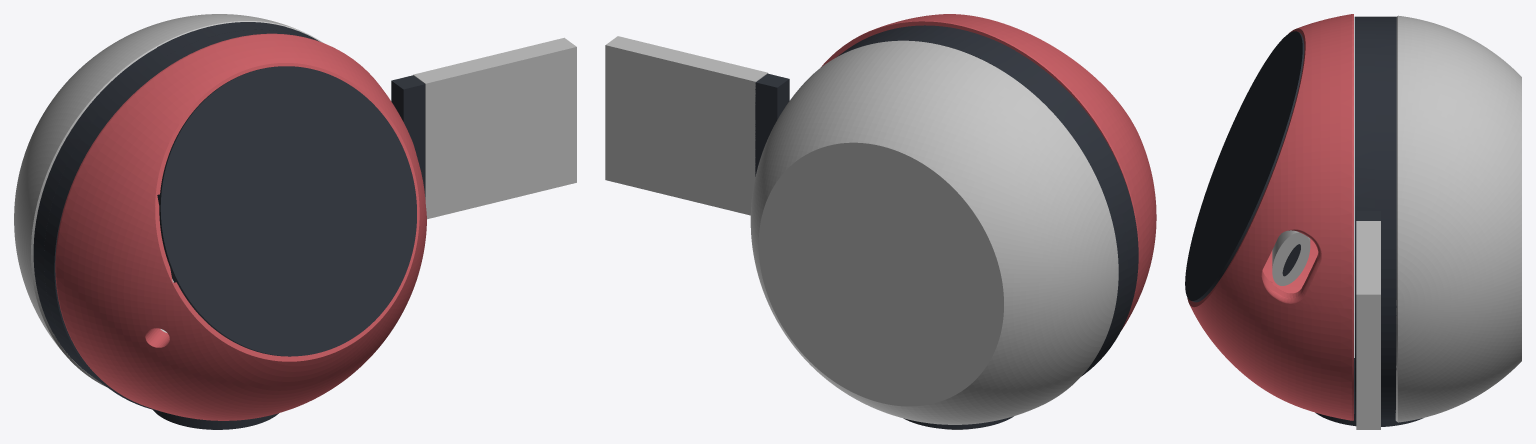
File: poketama-poke-screen-battery.glb
3 renders of one model, left to right at view 1: azimuth 30°, elevation 25°; view 2: azimuth 150°, elevation 25°; view 3: azimuth 270°, elevation 25°, orthographic.
Size of the model in its own units: 2 by 1.41 by 1.11.
